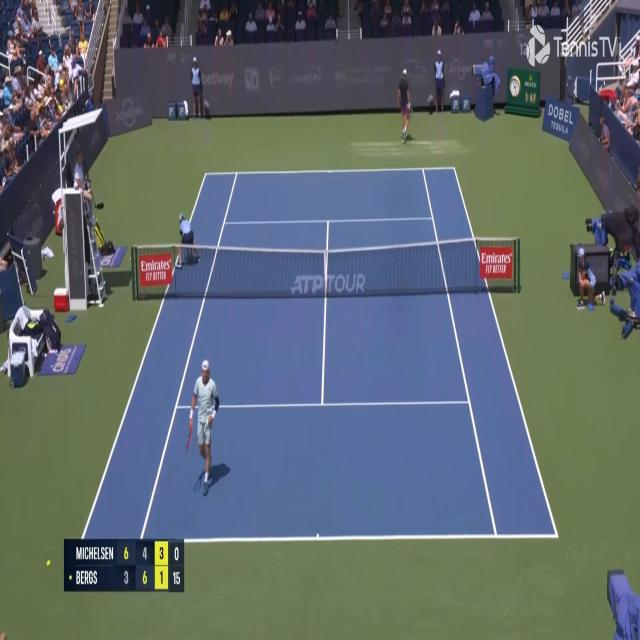tennis-player: (186, 357, 223, 500), (396, 68, 414, 144)
